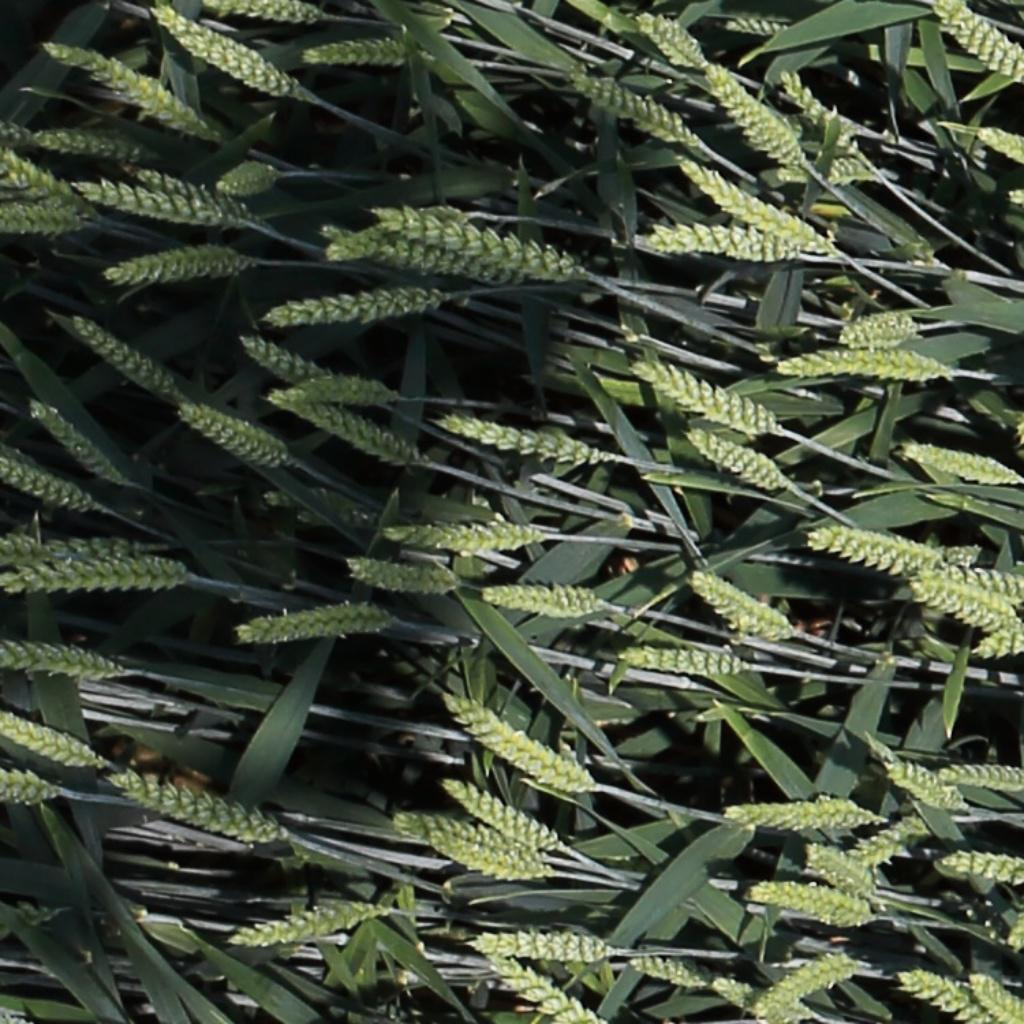0-0: (370, 202, 584, 284), (40, 39, 211, 139), (439, 690, 597, 795), (103, 768, 292, 847), (675, 152, 824, 251), (154, 9, 304, 102), (321, 224, 523, 285), (263, 389, 423, 464), (630, 357, 783, 435), (327, 192, 472, 267), (703, 61, 804, 166), (567, 72, 700, 149), (123, 161, 271, 229), (478, 955, 609, 1024), (680, 567, 795, 645), (441, 415, 609, 466), (69, 315, 173, 397), (443, 780, 558, 853), (774, 64, 862, 159), (25, 398, 122, 484), (809, 520, 966, 573), (865, 732, 968, 809), (75, 181, 229, 232), (2, 557, 187, 599), (931, 1, 1024, 84), (755, 945, 860, 1017), (236, 602, 407, 646), (230, 899, 390, 946), (260, 290, 441, 331), (103, 242, 261, 288), (771, 345, 954, 383), (428, 828, 551, 884), (686, 428, 788, 494), (635, 224, 803, 264), (744, 879, 875, 930), (178, 402, 282, 465), (912, 578, 1021, 635), (1, 147, 92, 215), (901, 440, 1022, 487), (0, 642, 129, 686), (0, 715, 101, 770), (0, 456, 94, 512), (710, 974, 815, 1024), (481, 582, 609, 623), (0, 122, 143, 158), (0, 530, 139, 566), (393, 812, 510, 854), (726, 800, 876, 832), (238, 334, 330, 385), (385, 524, 545, 553), (471, 928, 607, 962), (614, 646, 746, 680), (899, 969, 984, 1021), (265, 371, 395, 405), (911, 564, 1023, 603), (344, 558, 460, 595), (297, 35, 427, 68), (842, 814, 924, 866), (633, 10, 705, 69), (804, 846, 875, 898), (931, 848, 1024, 883), (194, 0, 324, 25), (777, 157, 894, 184), (932, 763, 1023, 793), (977, 124, 1024, 181), (839, 314, 919, 347), (626, 957, 711, 988), (212, 163, 281, 199), (0, 768, 60, 806), (1, 210, 82, 238), (970, 622, 1024, 660), (720, 17, 785, 34)
